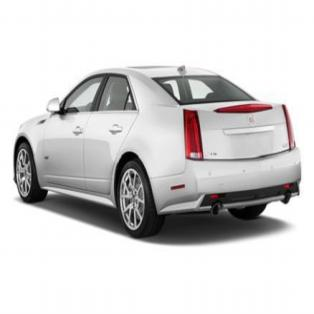Auto: (7, 60, 303, 242)
